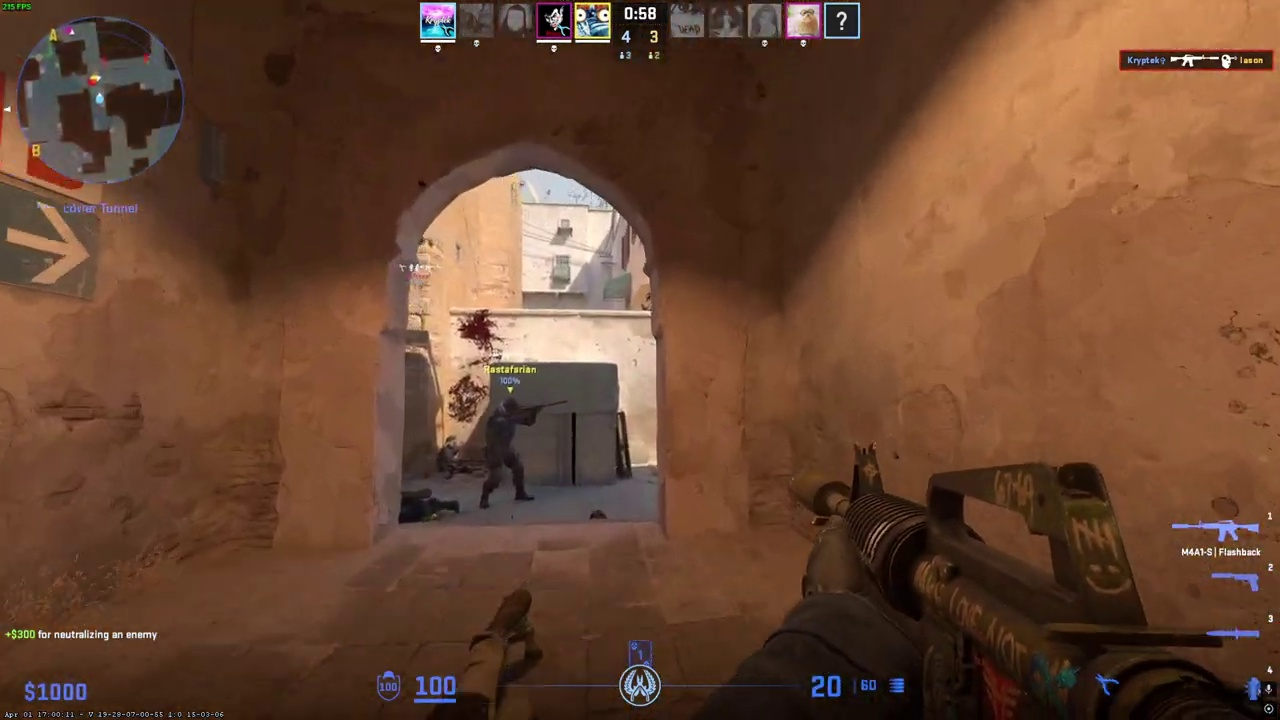CT: (479, 398, 535, 509)
